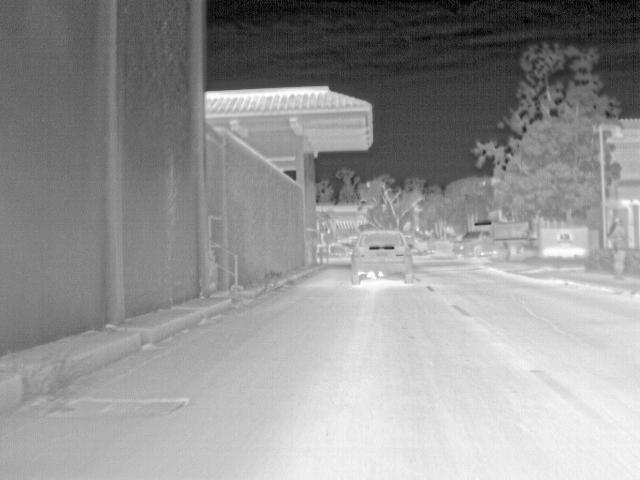car: (350, 228, 414, 285), (329, 244, 352, 257), (411, 237, 428, 254)
person: (608, 212, 627, 282)
